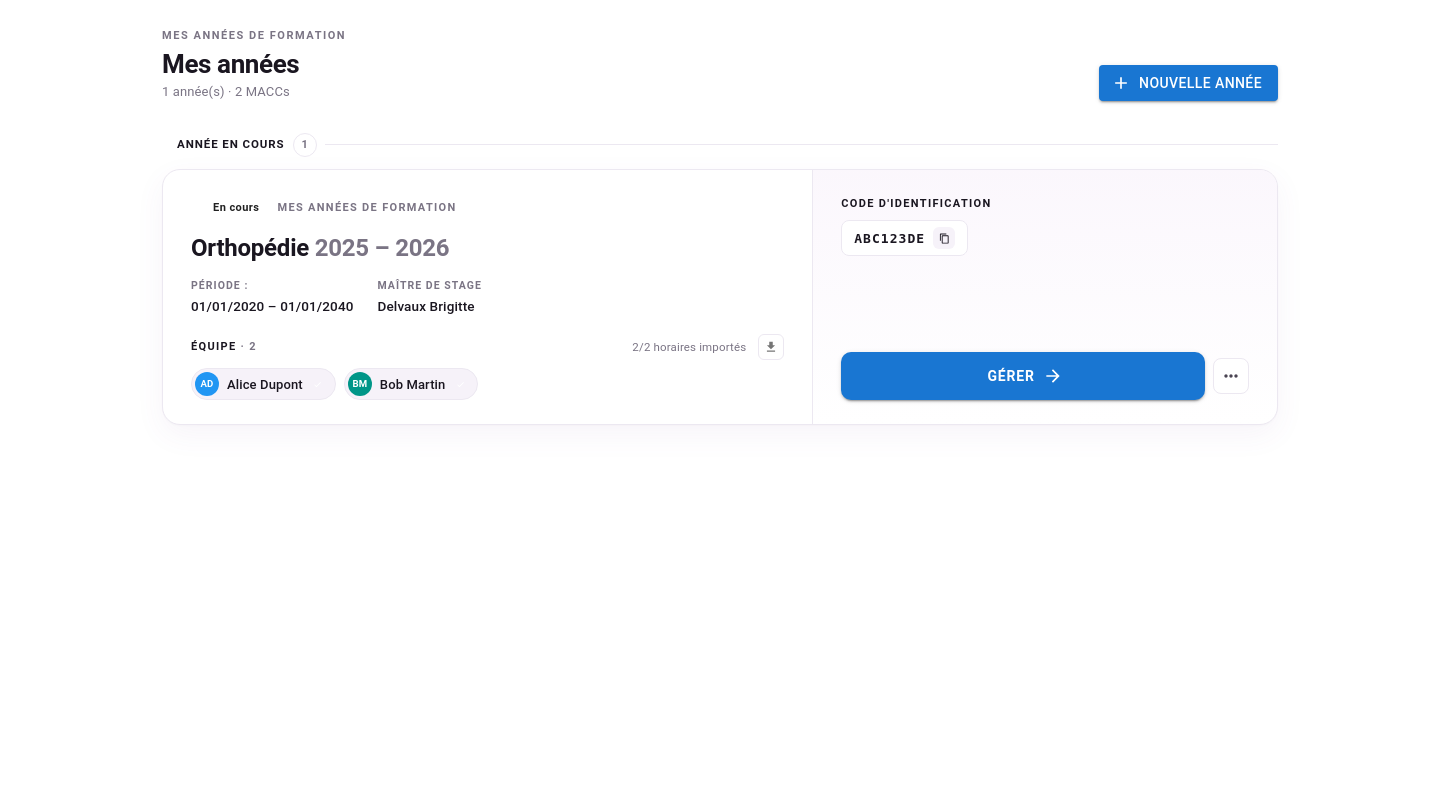
Scenario: YearCard — grande carte (En cours) › menu : 'Supprimer' ouvre la dialog de confirmation
Click the button with test id "MoreHorizIcon". click: click(1231, 376)
box: [1213, 358, 1249, 394]
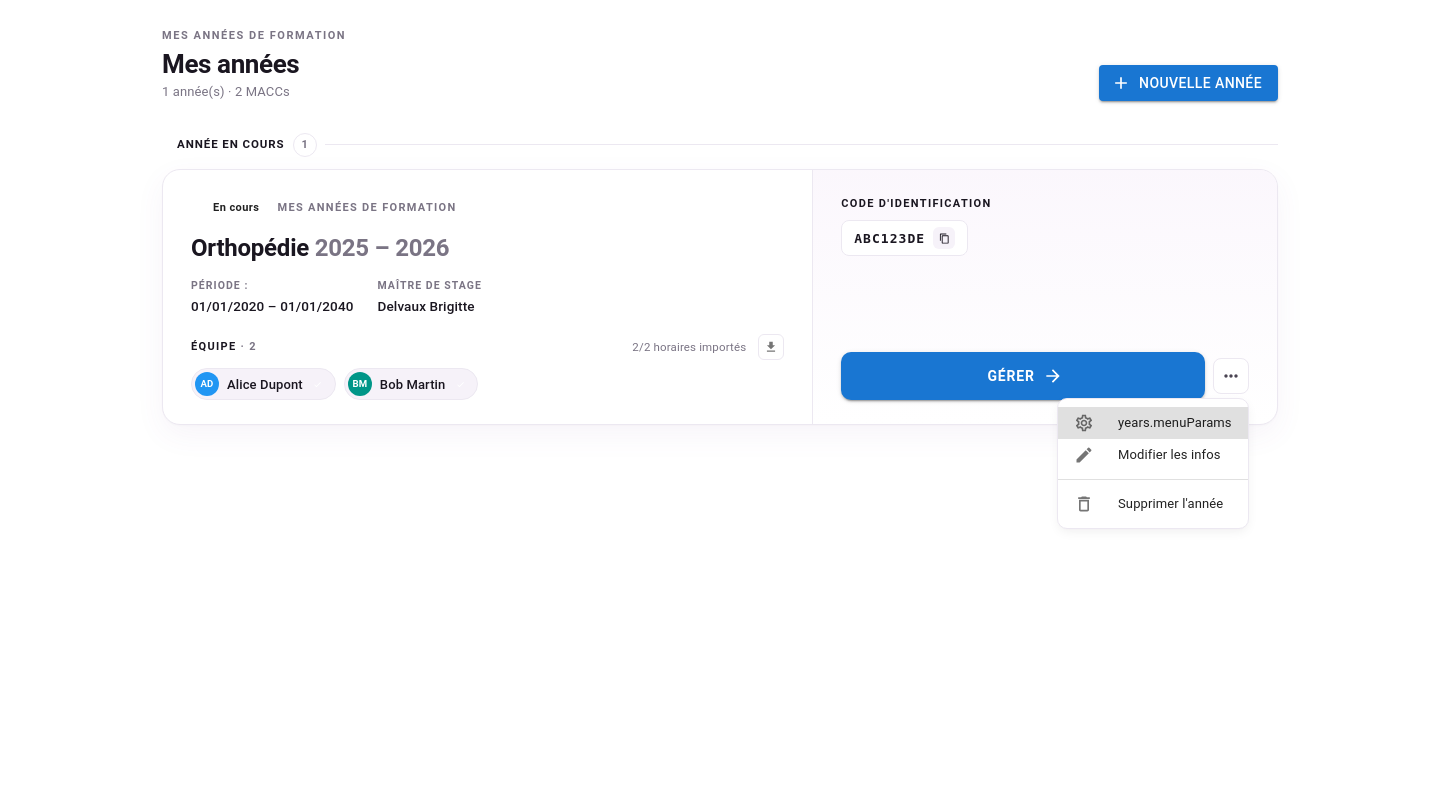
Now the text "Supprimer l'année" is shown, box [1118, 494, 1232, 514]
Click the menu item "Supprimer l'année". click: click(1149, 504)
box: [1074, 494, 1223, 514]
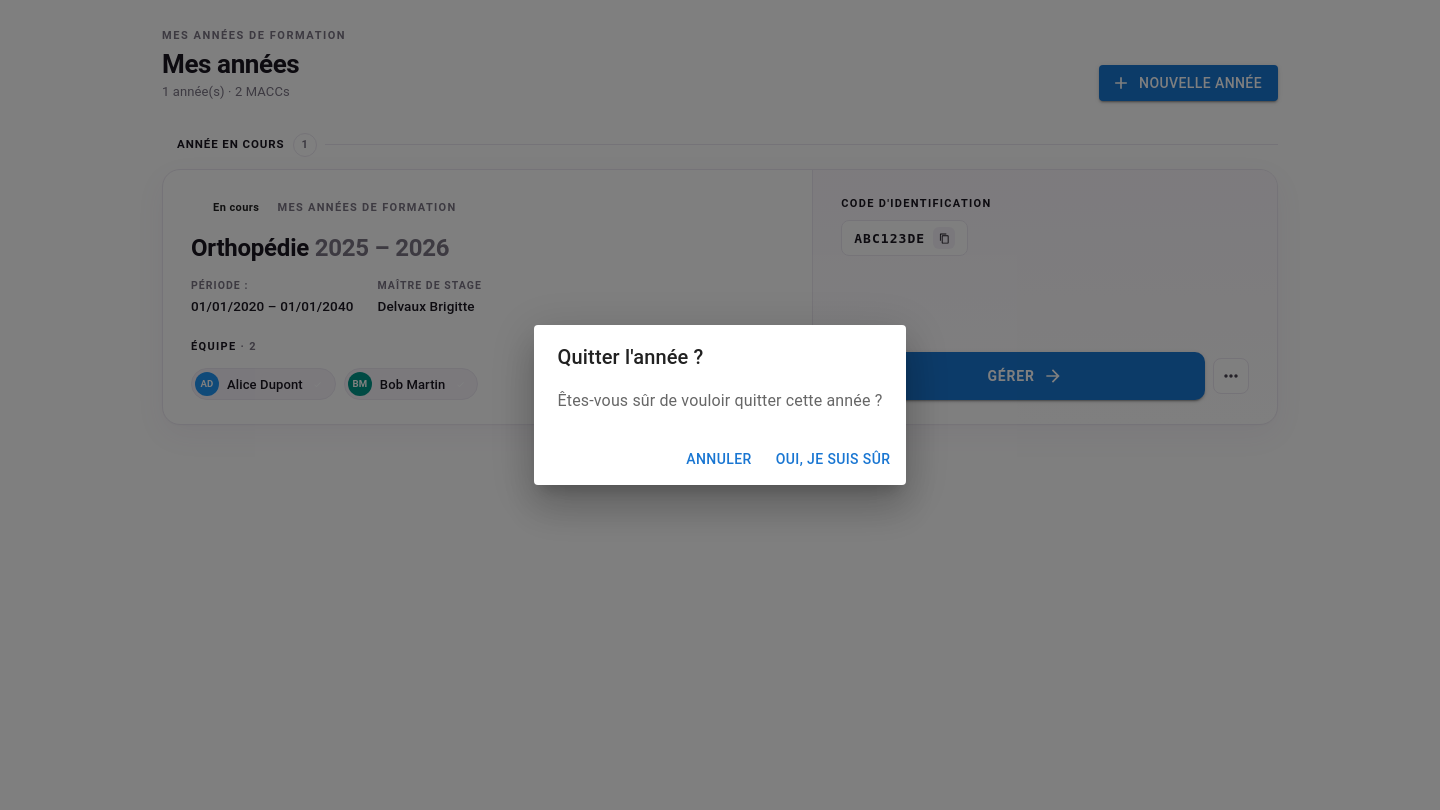
Now the dialog is shown, box [534, 325, 906, 485]
